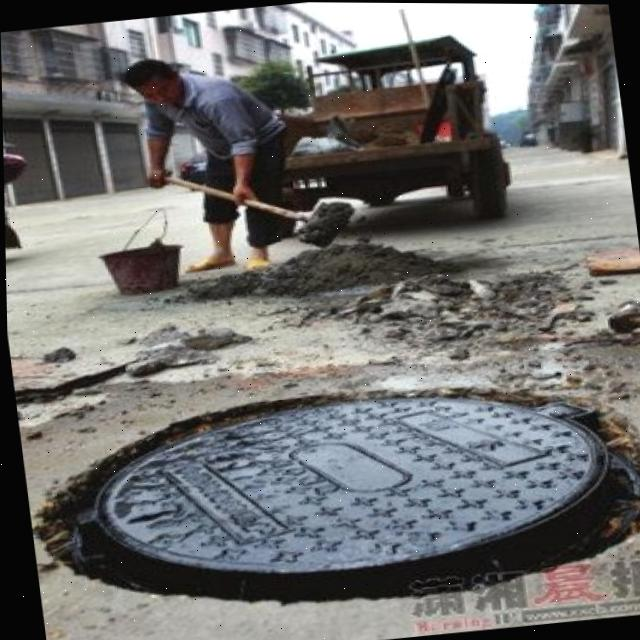manhole: (15, 332, 640, 640)
